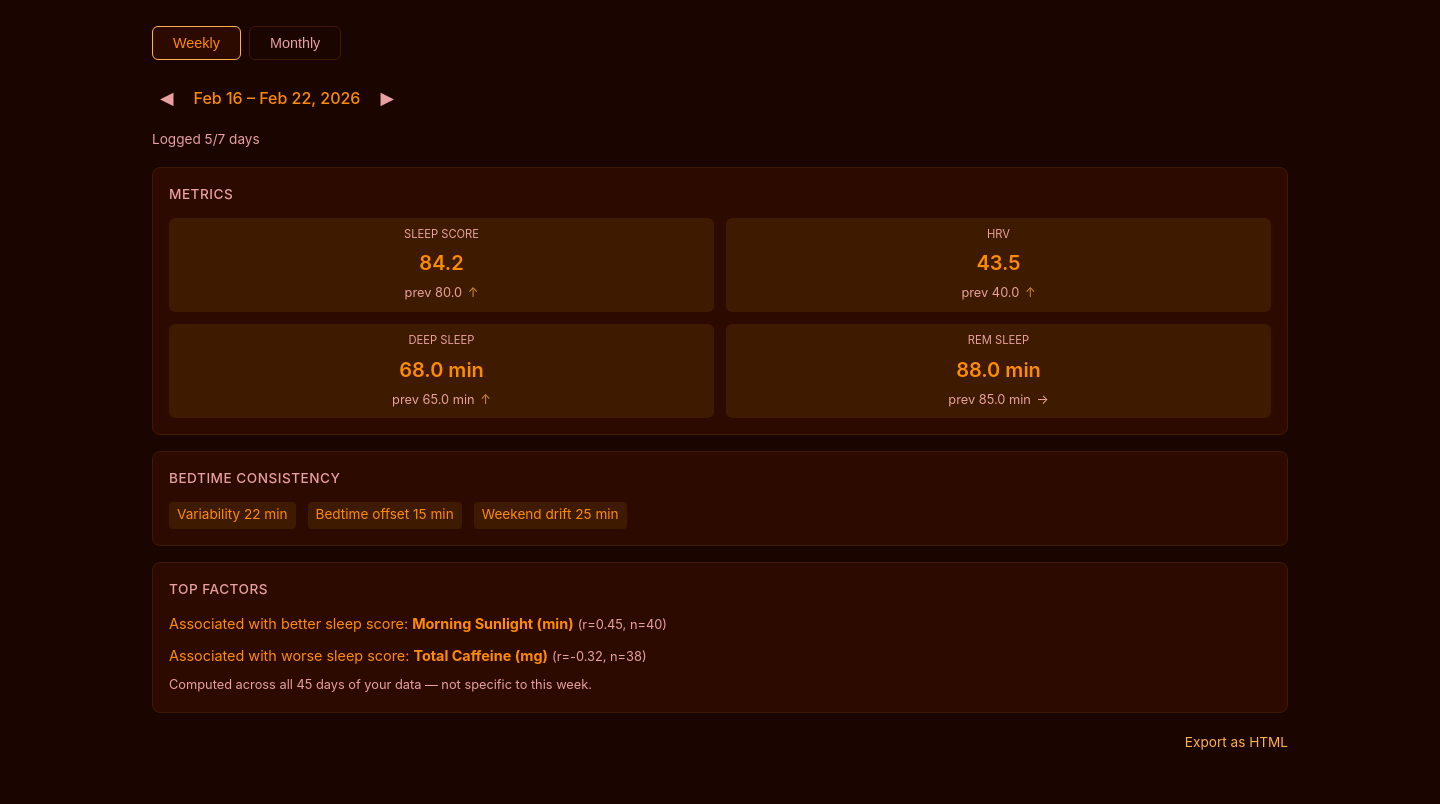
Test: ReportsPage › switches to month view on tab click
The image size is (1440, 804).
Click the button "Monthly" at (295, 43), box [249,26,341,60]
(page scrolled)
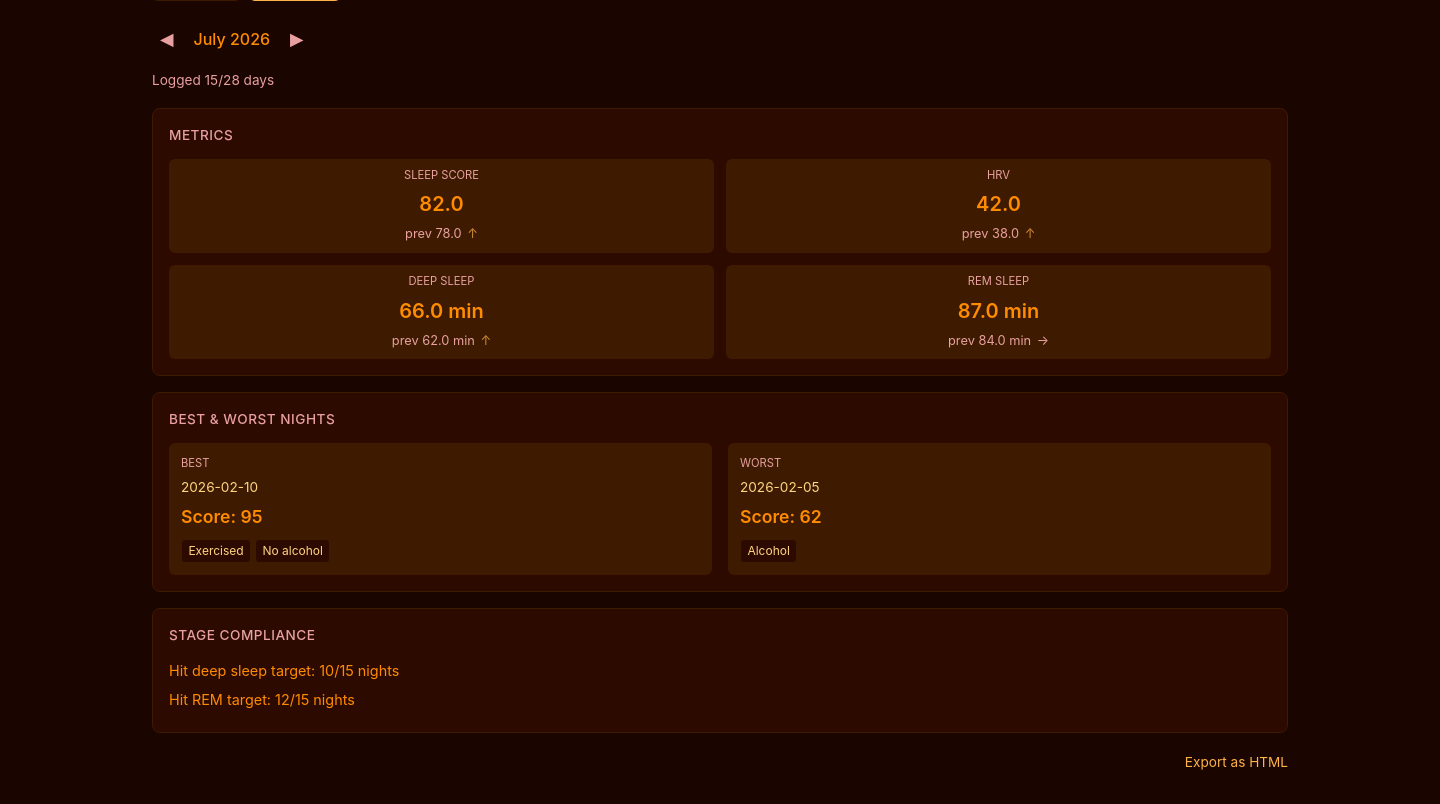
Expected: the element with test id "monthly-report-view" is shown
